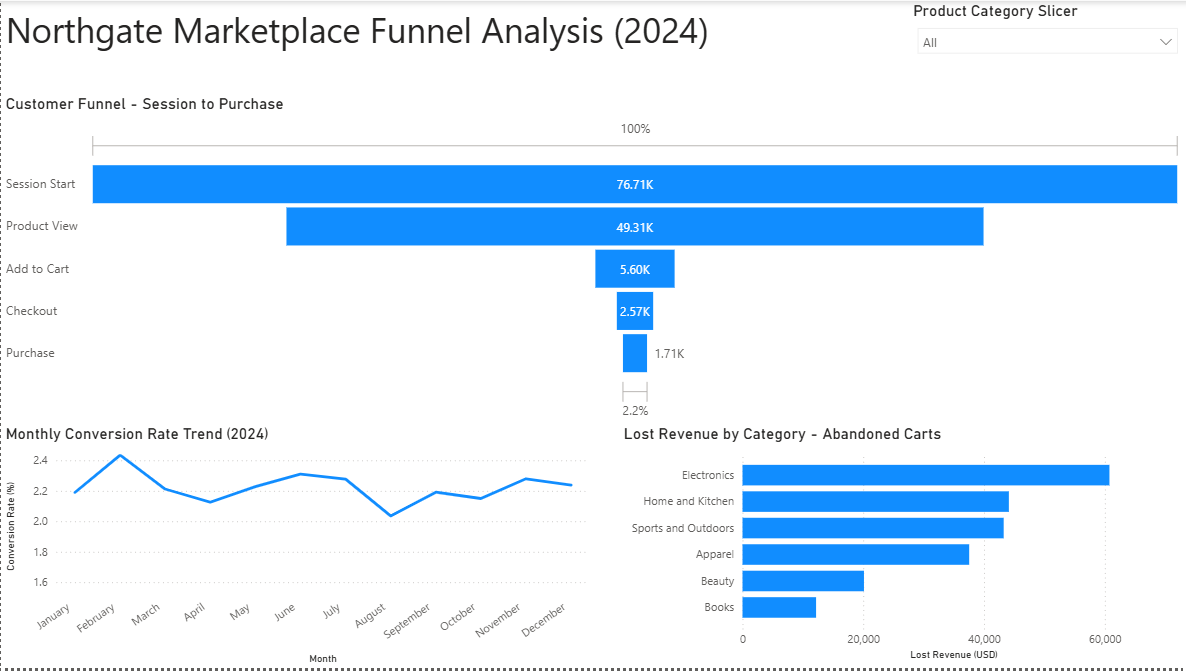

This screenshot's page, from the dashboard's own definition file:
{"tool":"powerbi","page":{"name":"Northgate Marketplace Funnel Analysis","canvas":[1280,720],"ordinal":0},"visuals":[{"type":"funnel","title":"Customer Funnel - Session to Purchase","fields":{"Category":["events.Stage_Label"],"Y":["Count(events.session_id)"]},"box":[0,100.2,1279.4,357.2],"z":0},{"type":"clusteredBarChart","title":"Lost Revenue by Category - Abandoned Carts","fields":{"Category":["products.category"],"Y":["products.Lost_Revenue"]},"box":[667.1,457.3,612.3,258.9],"z":1000},{"type":"lineChart","title":"Monthly Conversion Rate Trend (2024)","fields":{"Category":["sessions.session_date.Variation.Date Hierarchy.Month"],"Y":["sessions.Monthly_Conversion_Rate"]},"box":[0,456.6,639.6,263.9],"z":2000},{"type":"slicer","title":"Product Category Slicer","fields":{"Values":["products.category"]},"box":[978.9,0,300.5,100.2],"z":3000},{"type":"textbox","box":[0,0,960,100.2],"z":4000}]}

Visuals, with their boxes in screenshot pixels (x1, y1, x2, y2), scaled from the page's 1280x720 canvas onto the 1186x672 screenshot:
"Customer Funnel - Session to Purchase" funnel: bbox(0, 94, 1185, 427)
"Lost Revenue by Category - Abandoned Carts" clusteredBarChart: bbox(618, 427, 1185, 668)
"Monthly Conversion Rate Trend (2024)" lineChart: bbox(0, 426, 593, 671)
"Product Category Slicer" slicer: bbox(907, 0, 1185, 94)
textbox: bbox(0, 0, 890, 94)
